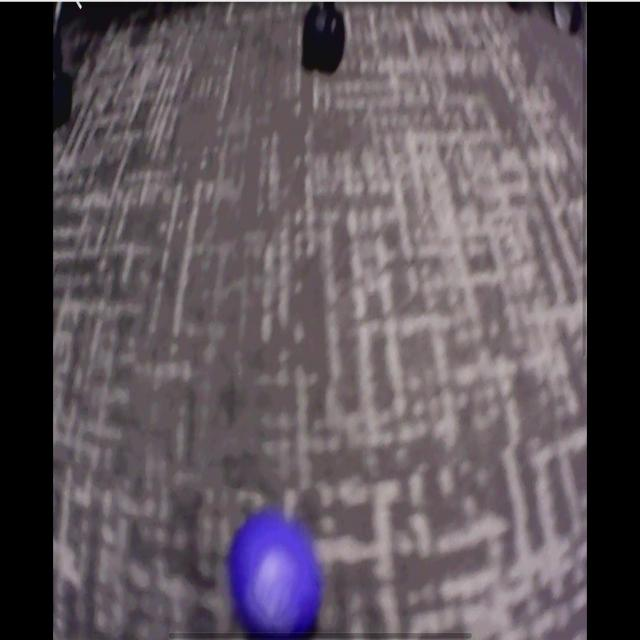ball: (230, 513, 323, 637)
